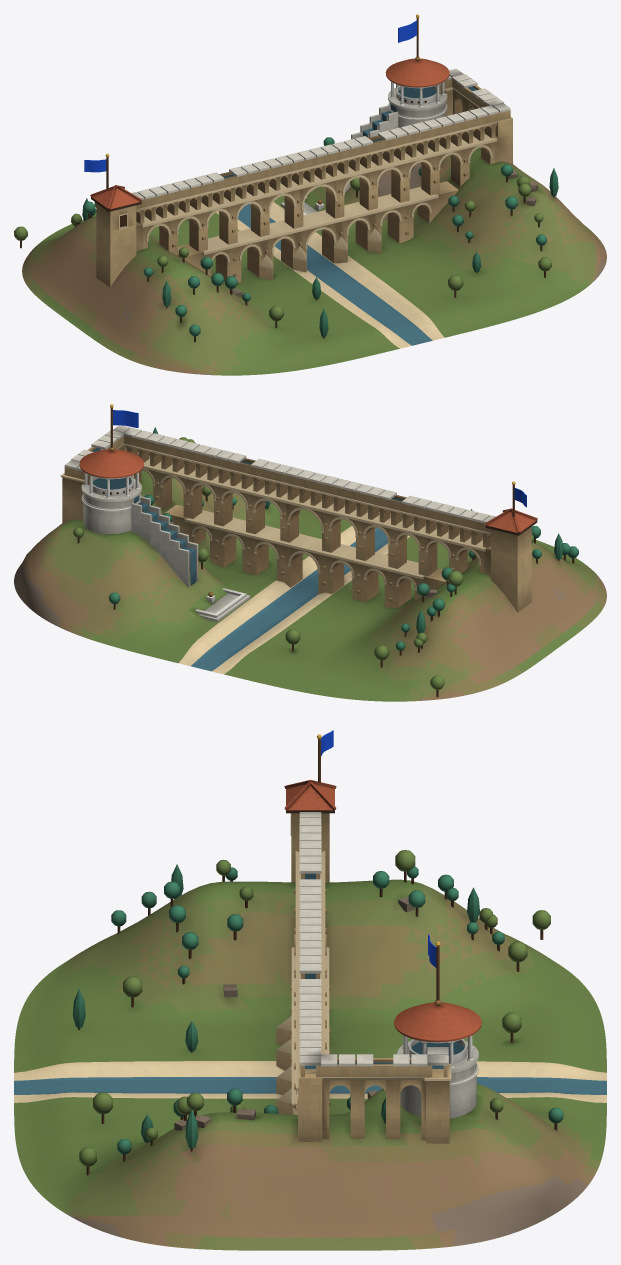
Rendered from lm_sukemeri.glb.
3 views of the same model, one above another, from view 1: azimuth 30°, elevation 25°; view 2: azimuth 150°, elevation 25°; view 3: azimuth 270°, elevation 25° (orthographic). The views are drawn at different scales.
Parts seen in each view (by area): view 1: lm_sukemeri; view 2: lm_sukemeri; view 3: lm_sukemeri.
Part boxes in pixels (x1,y1,x2,y2): lm_sukemeri: [14, 14, 606, 375]; lm_sukemeri: [14, 404, 606, 701]; lm_sukemeri: [14, 730, 606, 1250].
Size of the model in its own units: 2.6 by 0.917 by 2.
1 material, 1 textured.
